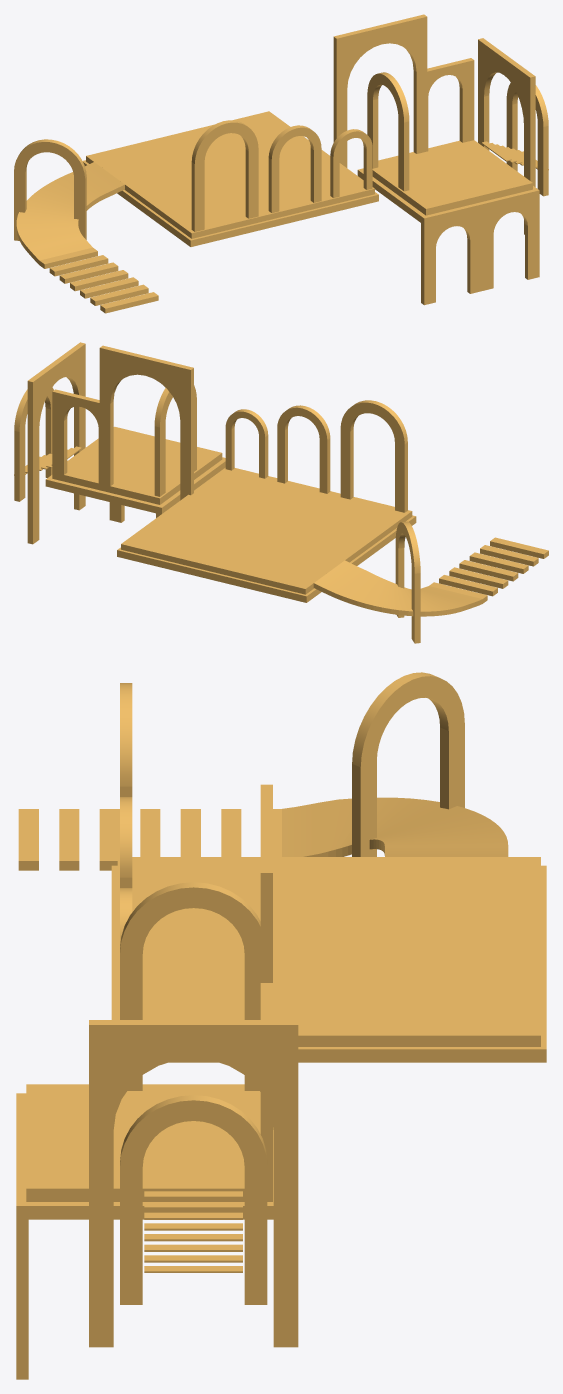
File: OU_AR_Art_01_D.fbx
The picture shows the model from 3 angles, top to bottom: view 1: azimuth 30°, elevation 25°; view 2: azimuth 150°, elevation 25°; view 3: azimuth 270°, elevation 25°; orthographic projection. The views are drawn at different scales.
Parts seen in each view (by area): view 1: OU_AR_Art_01_D; view 2: OU_AR_Art_01_D; view 3: OU_AR_Art_01_D.
Boxes of the visible parts, x1=… form: OU_AR_Art_01_D: x1=14, y1=14, x2=548, y2=313; OU_AR_Art_01_D: x1=14, y1=342, x2=548, y2=643; OU_AR_Art_01_D: x1=16, y1=672, x2=546, y2=1379.
Size of the model in its own units: 3110 by 1428 by 1503.
